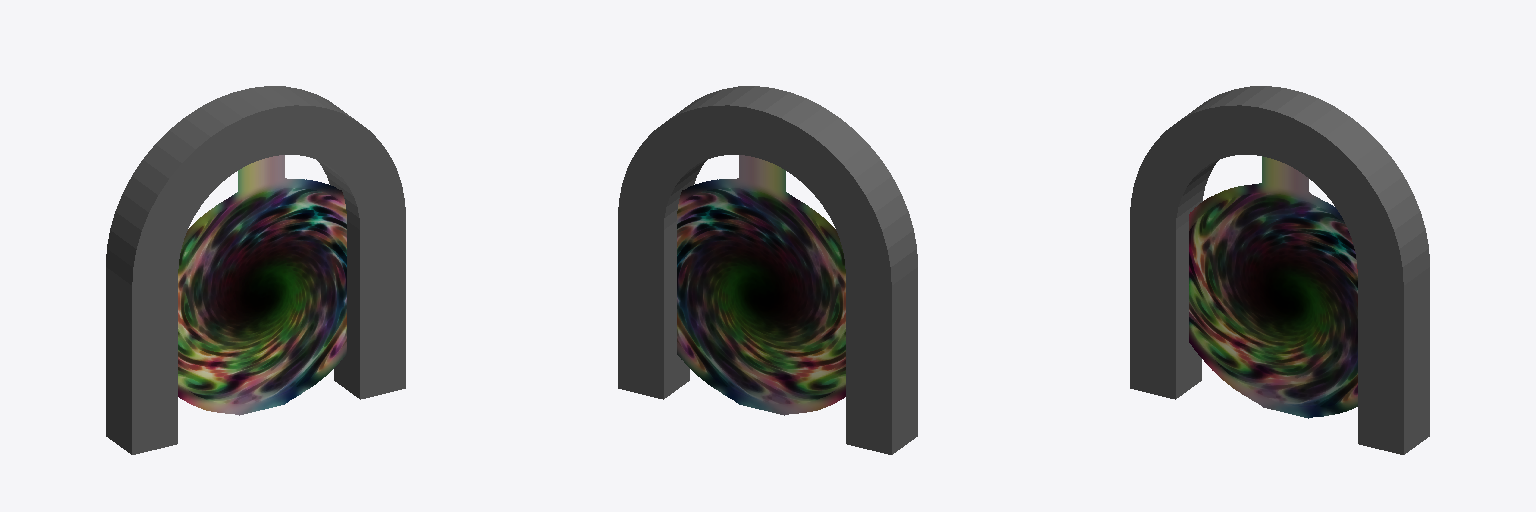
The picture shows the model from 3 angles: view 1: azimuth 30°, elevation 25°; view 2: azimuth 150°, elevation 25°; view 3: azimuth 330°, elevation 25°; orthographic projection.
Parts seen in each view (by area): view 1: Cube.001_Cube.002, Plane; view 2: Cube.001_Cube.002, Plane; view 3: Cube.001_Cube.002, Plane.
Part boxes in pixels (x1,y1,x2,y2): Cube.001_Cube.002: (106, 86, 405, 454); Plane: (178, 155, 346, 415); Cube.001_Cube.002: (618, 86, 917, 454); Plane: (677, 155, 845, 415); Cube.001_Cube.002: (1130, 86, 1429, 454); Plane: (1189, 156, 1357, 418).
Bounding box in the file's own units: 11.93 × 13.01 × 2.
2 materials, 2 textured.